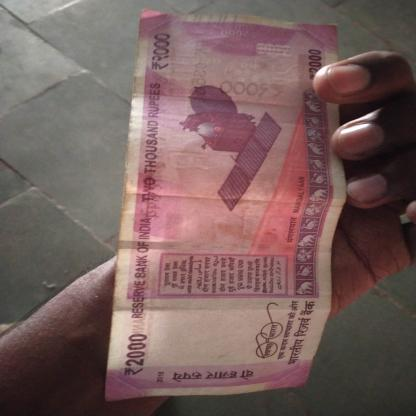New2000Back: (118, 11, 340, 386)
